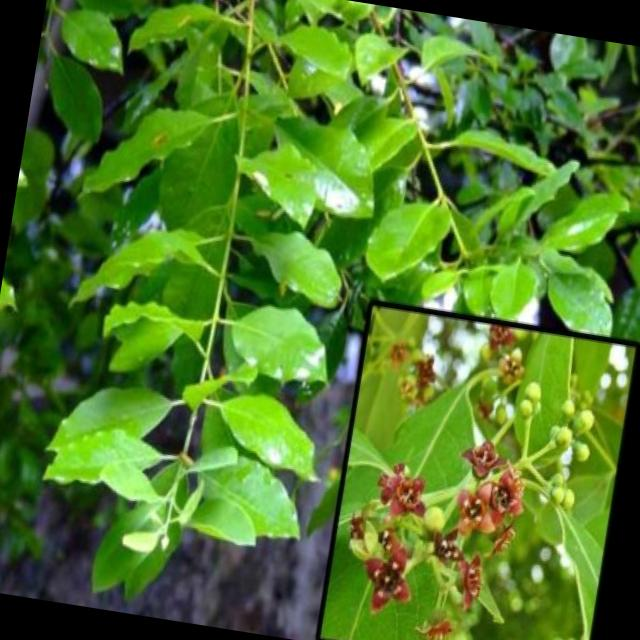Medicinal-Sandalwood: (21, 0, 408, 640), (323, 329, 636, 640)
